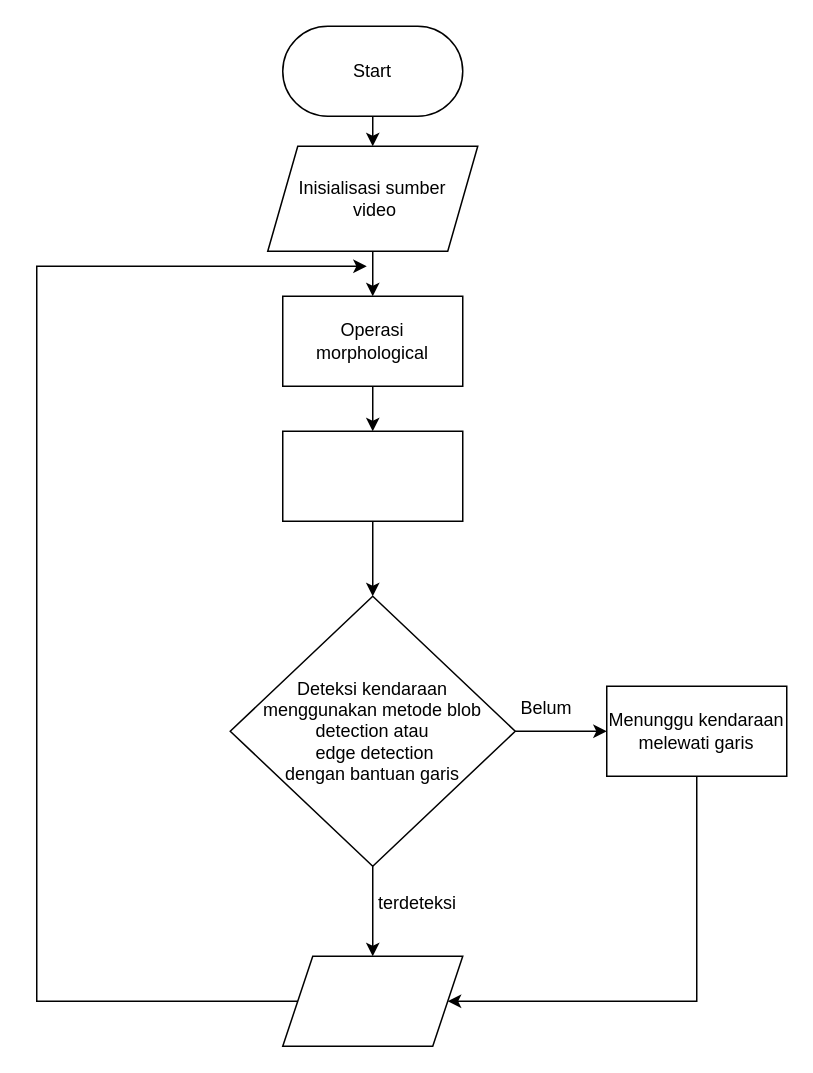
Some shapes in this 813 by 1073 pixel diagram are drawn without their labels. The shapes that lost their labels are listed below. From the top down, each one's centre as x and y in pixels, then its label:
the point at 372,475: Thresholding
the point at 372,1000: Output menghitung kendaraan yang lewat
